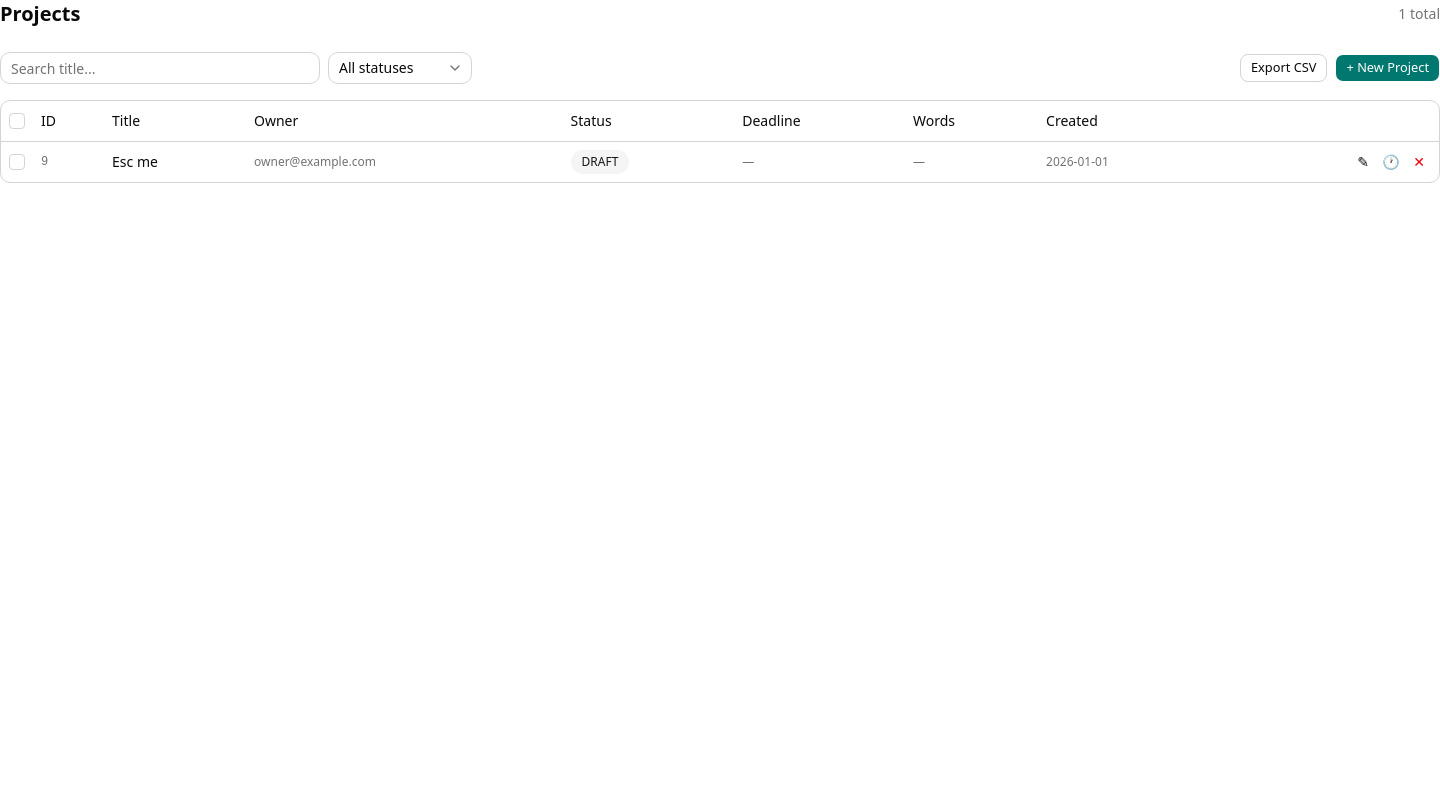
Test: AdminProjectsTable › closes the Edit dialog via Escape without saving
Expected: the text "Esc me" is shown, 104,141 -> 246,182
Click the button named "Edit" at (1363,162), box 1351,150 -> 1375,174
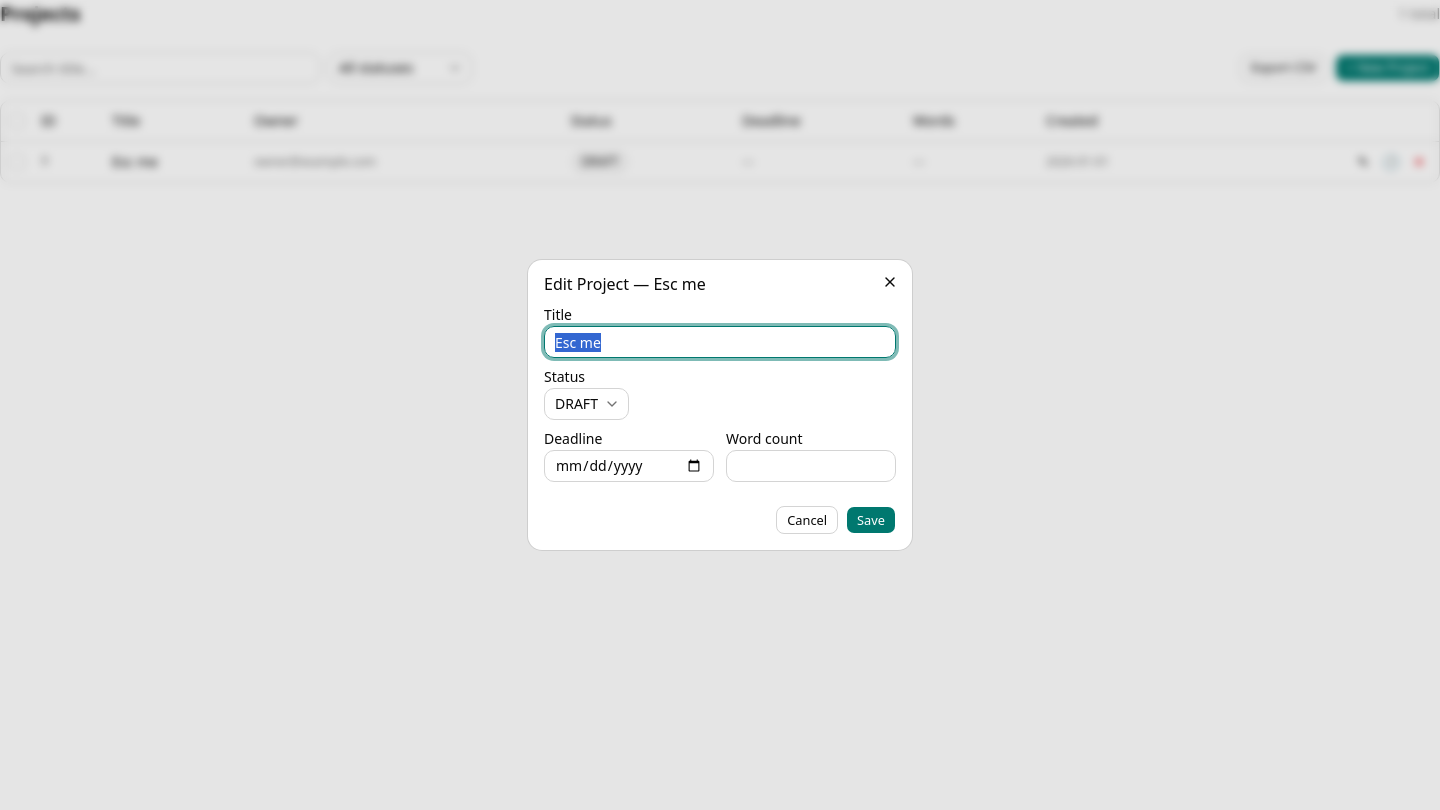
Expected: the dialog is shown
Press Escape in the dialog, box 528,260 -> 912,550
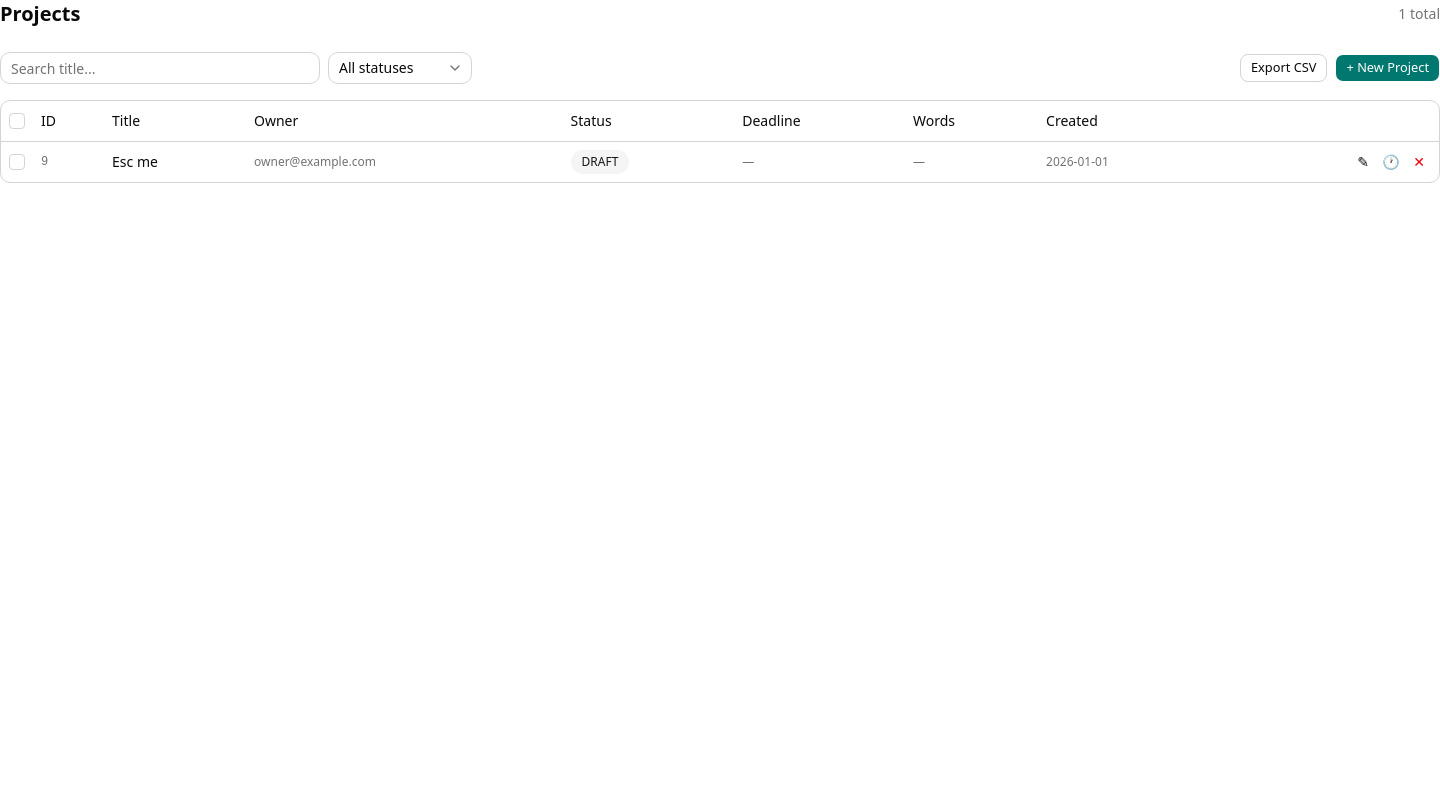
Expected: the dialog is gone
